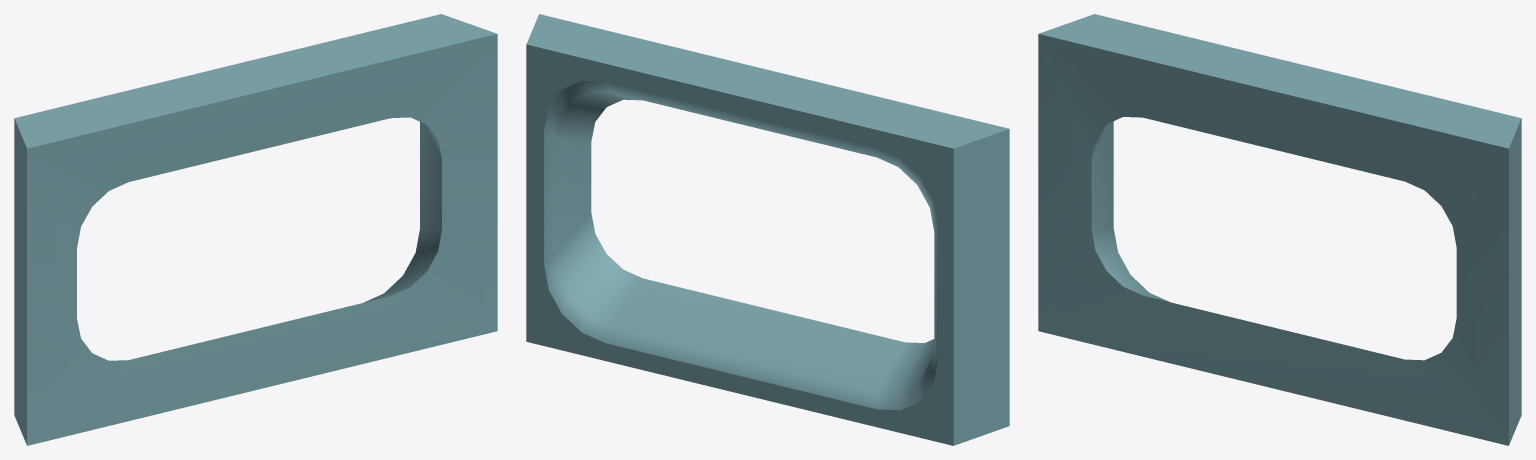
Rendered from wall_window_small.fbx.
The picture shows the model from 3 angles, left to right: view 1: azimuth 30°, elevation 25°; view 2: azimuth 150°, elevation 25°; view 3: azimuth 330°, elevation 25°; orthographic projection.
Visible parts, largest first — view 1: wall_window_small; view 2: wall_window_small; view 3: wall_window_small.
Boxes of the visible parts, <box> form: wall_window_small: <box>14,14,497,445</box>; wall_window_small: <box>526,14,1009,445</box>; wall_window_small: <box>1038,14,1521,445</box>.
Size of the model in its own units: 684 by 413 by 86.6.
